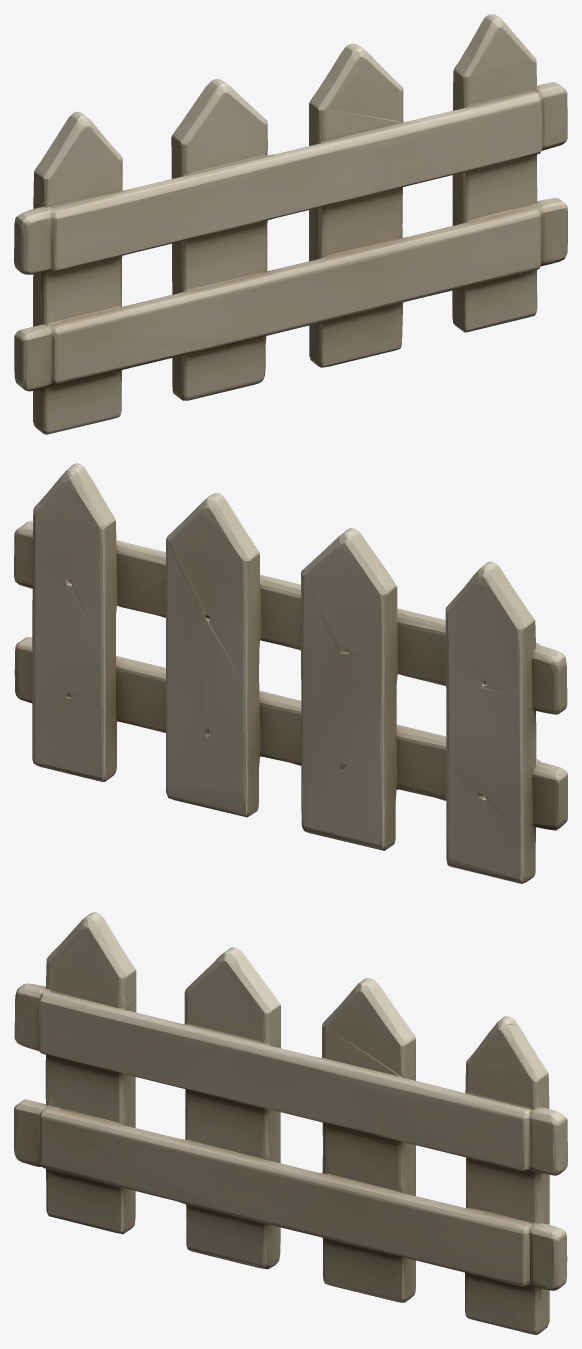
Rendered from picket_fence.glb.
The picture shows the model from 3 angles, top to bottom: view 1: azimuth 30°, elevation 25°; view 2: azimuth 150°, elevation 25°; view 3: azimuth 330°, elevation 25°; orthographic projection.
Parts seen in each view (by area): view 1: geometry_0; view 2: geometry_0; view 3: geometry_0.
Boxes of the visible parts, bbox=[...] form: geometry_0: bbox=[14, 14, 567, 434]; geometry_0: bbox=[14, 463, 567, 883]; geometry_0: bbox=[14, 912, 567, 1334].
Bounding box in the file's own units: 0.9997 × 0.5427 × 0.0713.
Materials: 1 (1 with a texture image).
